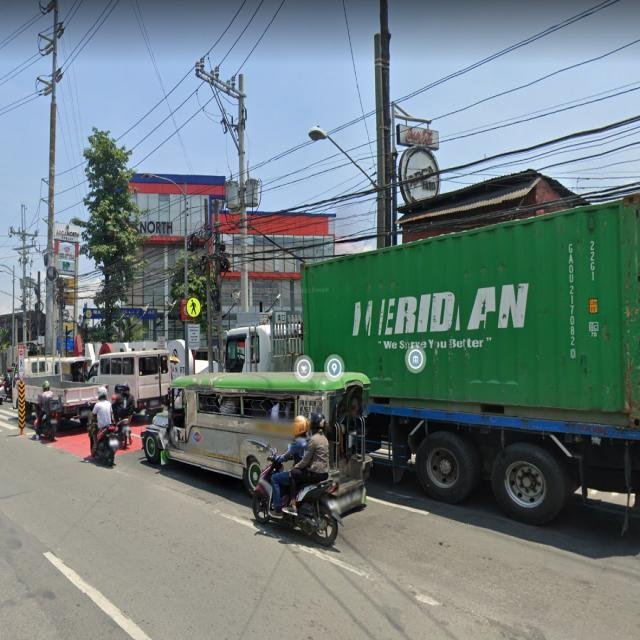pedestrian crossing: (183, 295, 204, 321)
